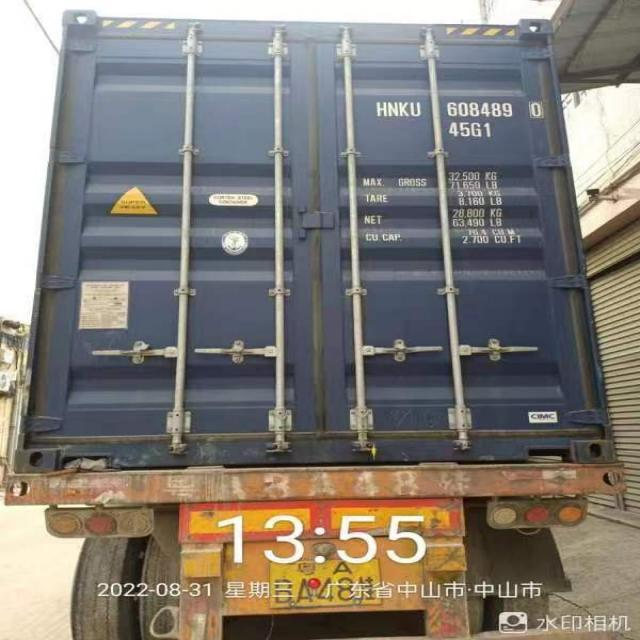ISO: (449, 122, 494, 140)
container_number: (375, 98, 545, 118)
